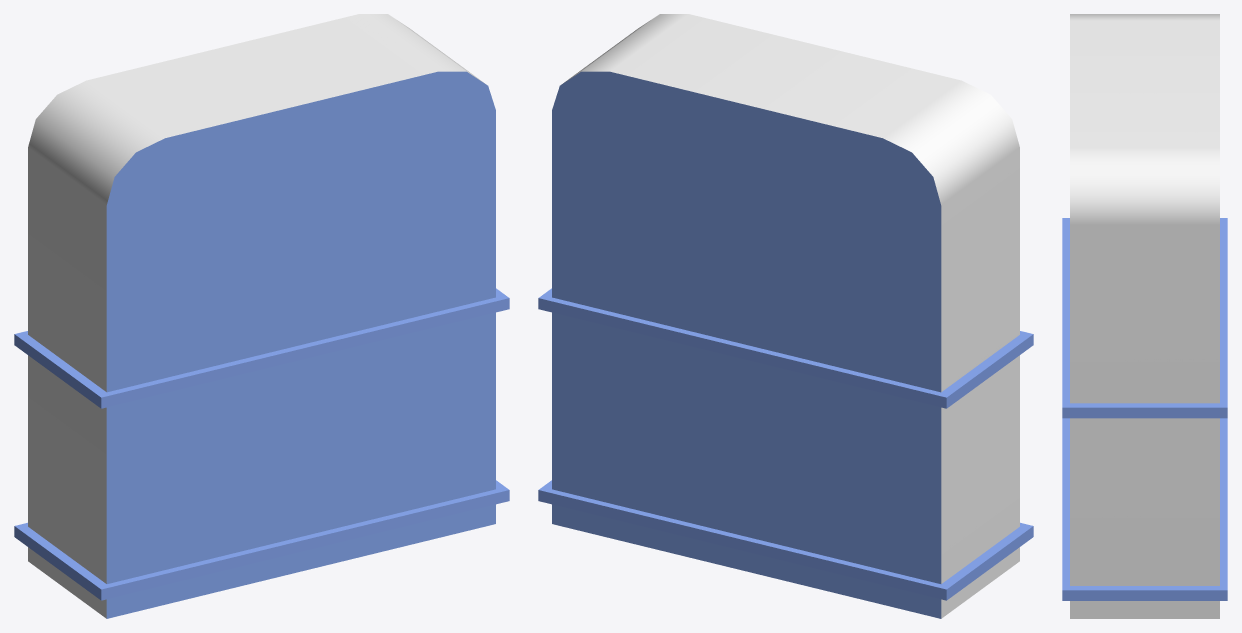
Rendered from Building_041_c.fbx.
3 renders of one model, left to right at view 1: azimuth 30°, elevation 25°; view 2: azimuth 150°, elevation 25°; view 3: azimuth 270°, elevation 25°, orthographic. The views are drawn at different scales.
Parts seen in each view (by area): view 1: Building_041_c; view 2: Building_041_c; view 3: Building_041_c.
Boxes of the visible parts, x1,y1,x2,y2 form: Building_041_c: (14, 14, 509, 618); Building_041_c: (538, 14, 1033, 618); Building_041_c: (1062, 14, 1227, 618).
Bounding box in the file's own units: 21.28 × 23.24 × 7.84.
